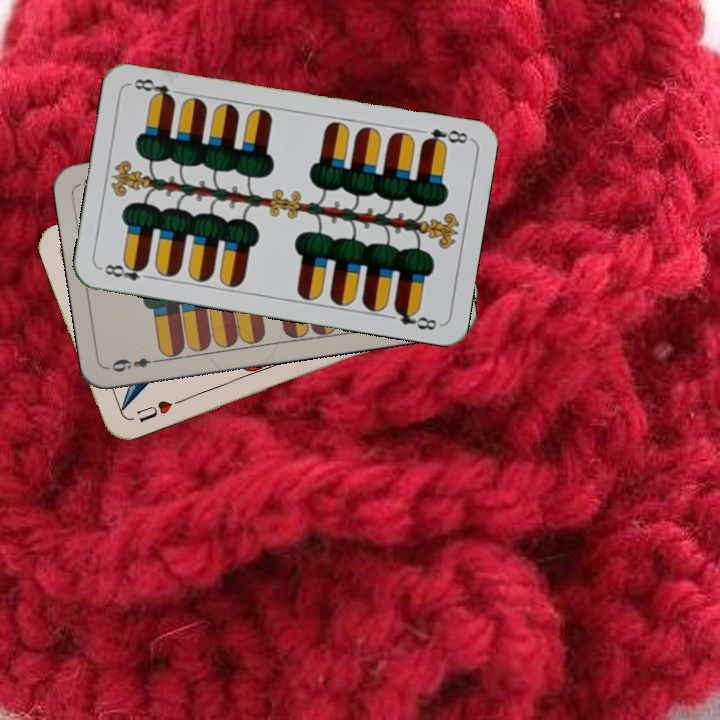E8: (100, 258, 156, 283), (418, 124, 471, 150)
E9: (108, 353, 164, 375)
HU: (132, 396, 182, 425)
